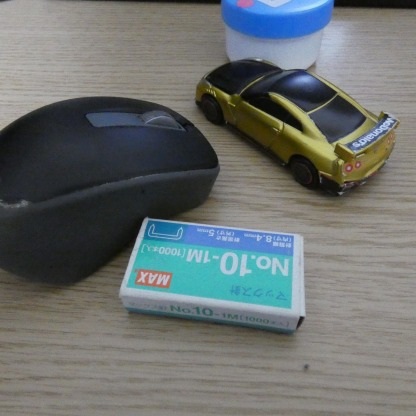car: (197, 54, 398, 197)
